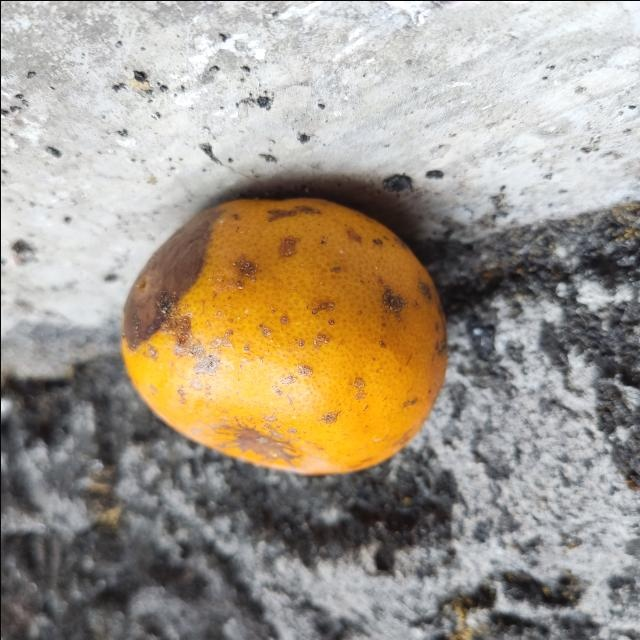agrume: (116, 186, 448, 476)
